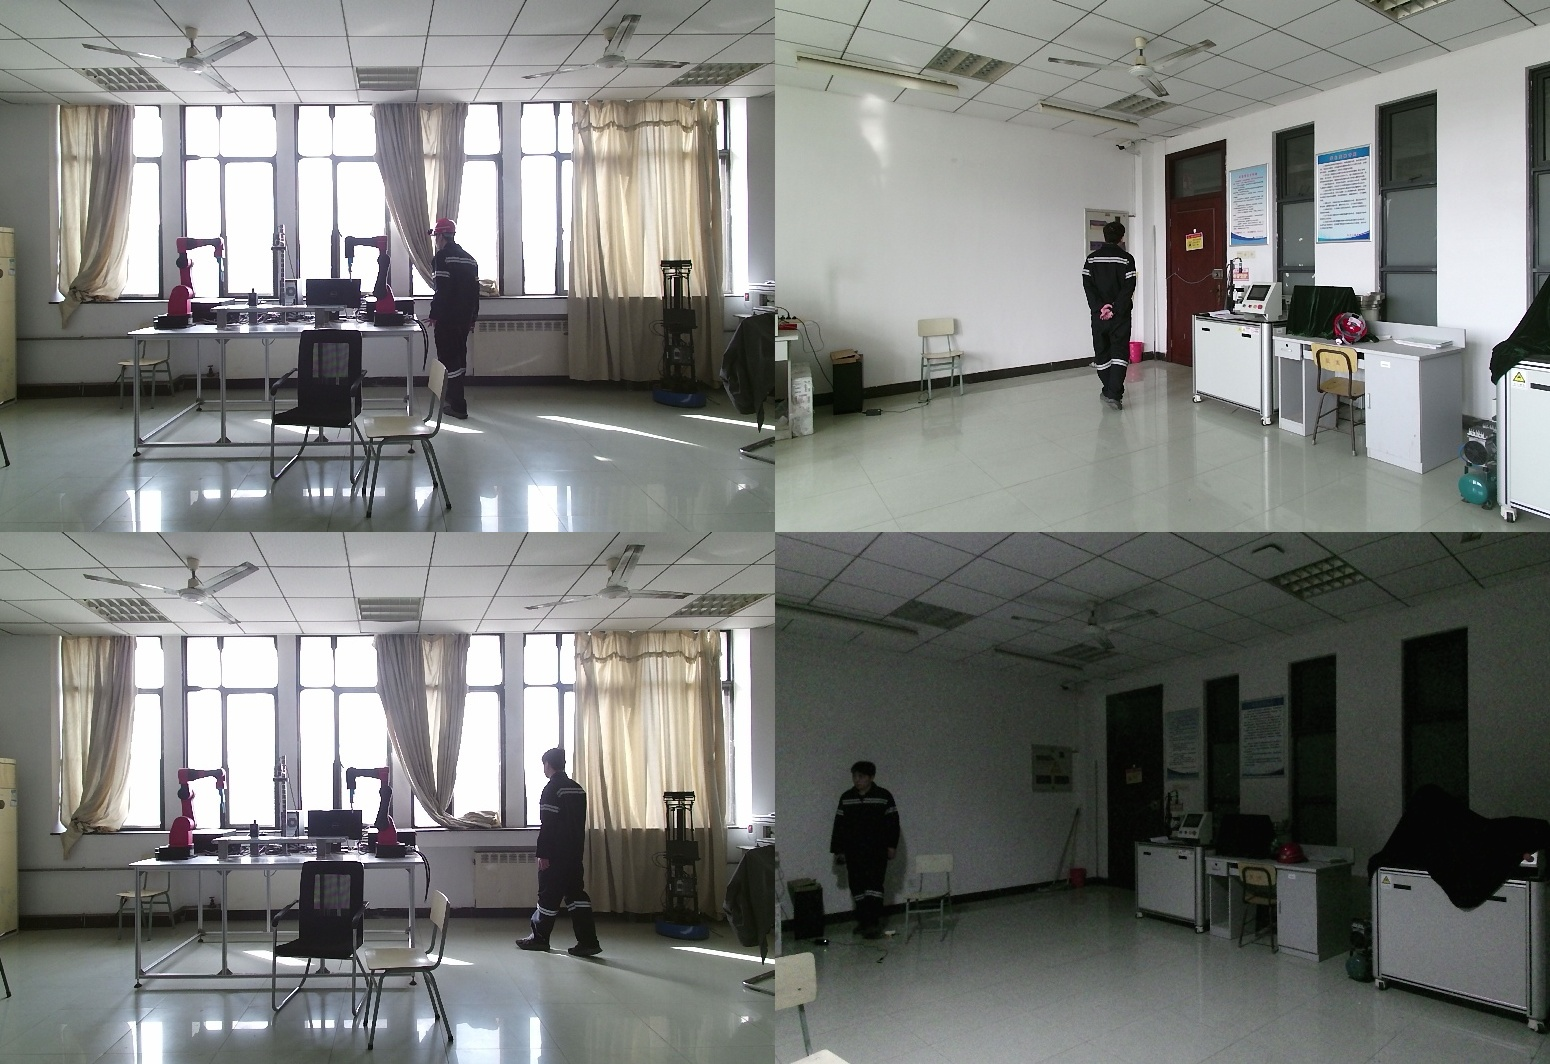person: (520, 749, 608, 965), (1078, 222, 1145, 417), (422, 220, 483, 424), (832, 763, 897, 935)
